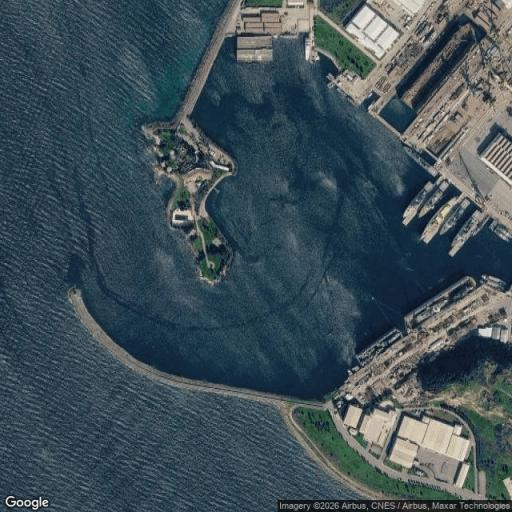ship: (449, 210, 488, 256), (421, 198, 456, 243), (403, 182, 434, 225), (440, 198, 470, 235), (419, 180, 448, 217), (403, 144, 431, 171), (490, 220, 511, 241), (480, 279, 506, 290), (482, 275, 507, 286), (305, 37, 311, 61)
